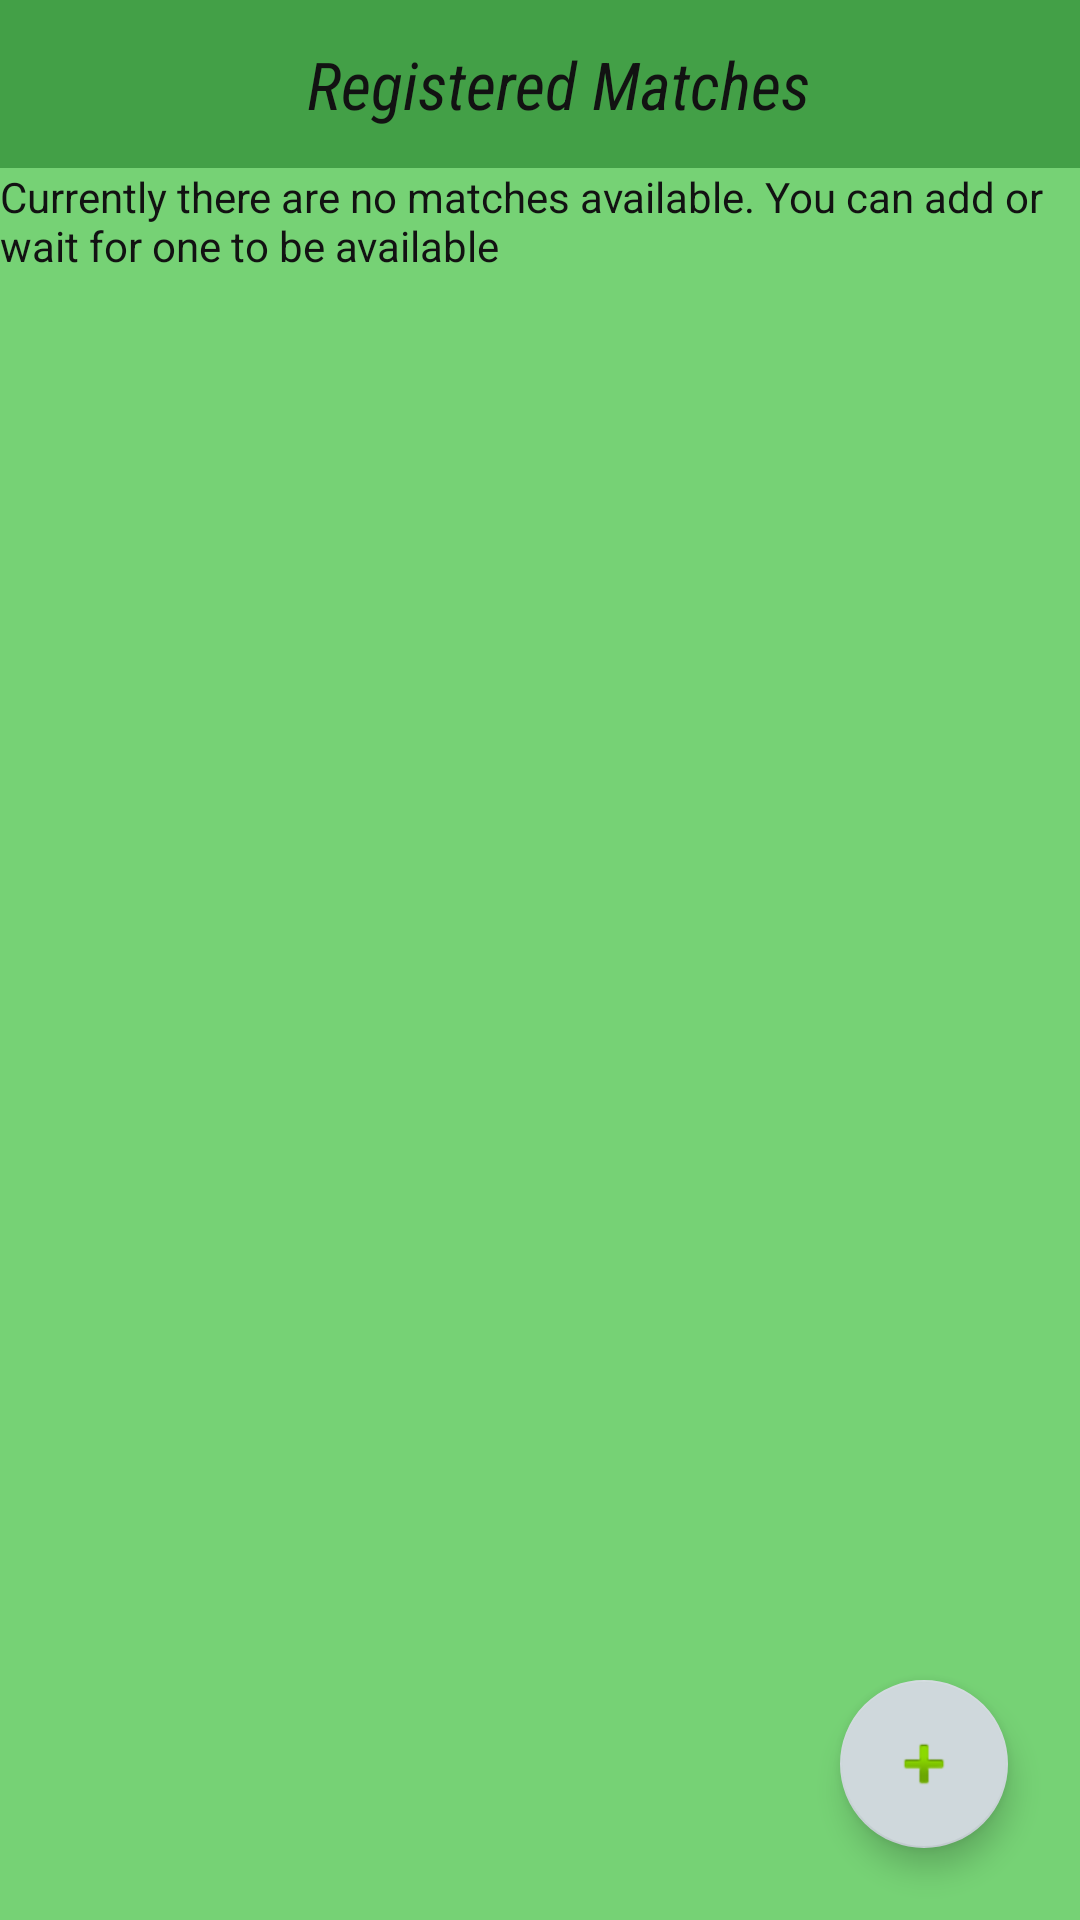

Icons on this 1080x1920 Android screen, each with the point to tap as (x=x, y=y):
Button to add a new match: (x=924, y=1764)
